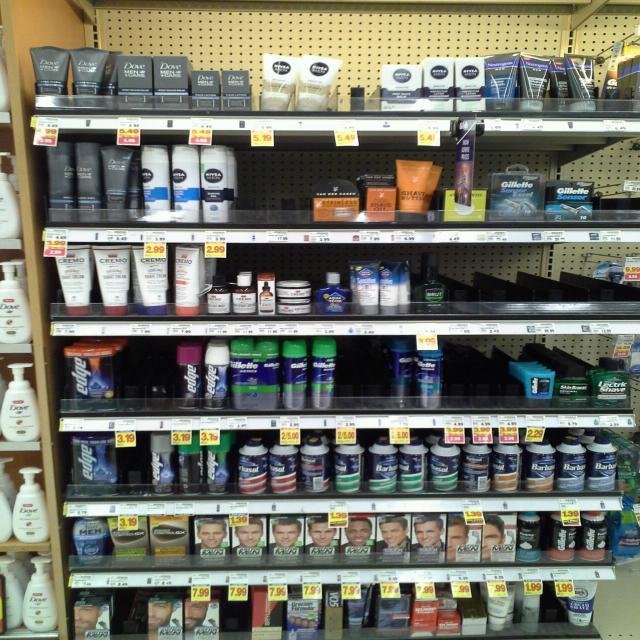void: (457, 251, 636, 316), (239, 146, 308, 221), (452, 340, 516, 405), (120, 344, 173, 406), (342, 342, 389, 406), (348, 55, 376, 113), (115, 602, 144, 640)
